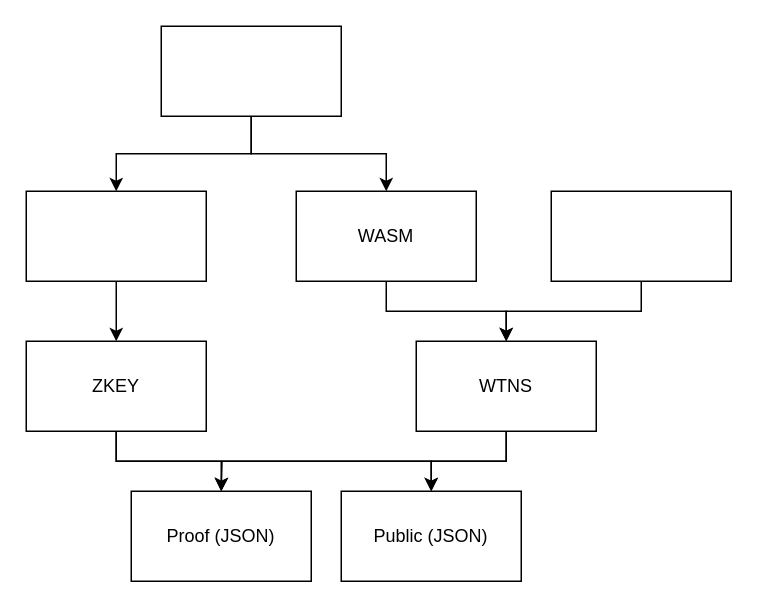
The diagram is 758 pixels wide and 608 high, and some of its shapes have lost their labels. Each missing label, with the centre of its shape:
Circuit: the point at 250,70
Input Signals (JSON): the point at 640,235
R1CS: the point at 115,235
